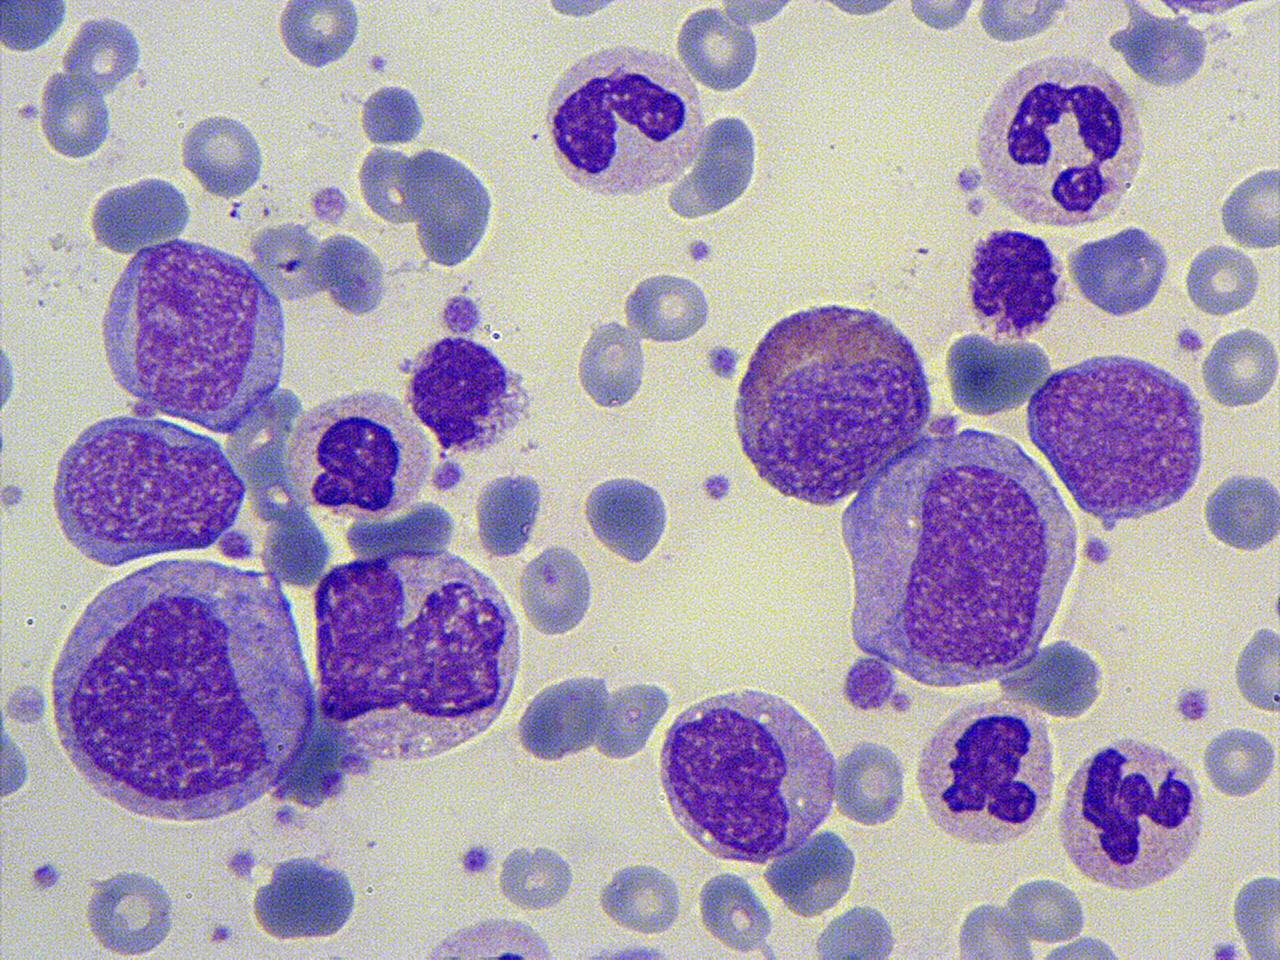Platelets: (840, 654, 899, 712), (436, 292, 485, 335), (1172, 680, 1214, 725), (0, 328, 20, 423), (456, 839, 497, 879), (703, 340, 741, 384), (27, 856, 65, 894), (1173, 324, 1205, 356), (954, 164, 984, 195), (684, 236, 714, 265), (1209, 938, 1239, 960), (366, 50, 390, 76)
RBC: (513, 667, 612, 767), (81, 862, 180, 958), (762, 826, 858, 916), (944, 326, 1032, 424), (178, 107, 270, 200), (515, 541, 598, 638), (674, 3, 761, 96), (248, 216, 336, 307), (694, 864, 778, 958), (58, 11, 145, 99), (592, 673, 672, 766), (622, 265, 716, 346), (830, 734, 910, 828), (597, 856, 684, 938), (1199, 322, 1279, 411), (38, 67, 112, 163), (1201, 468, 1279, 558), (471, 468, 542, 562), (316, 228, 390, 317), (1183, 239, 1263, 318), (356, 143, 428, 227), (495, 841, 577, 912), (1200, 724, 1276, 800), (358, 80, 430, 146), (1231, 620, 1279, 716), (1230, 868, 1280, 958), (902, 0, 982, 35), (806, 0, 912, 26), (536, 0, 630, 25)
WBC: (39, 552, 324, 830), (836, 414, 1090, 697), (306, 539, 526, 770), (724, 287, 935, 513), (94, 231, 290, 433), (650, 677, 840, 870), (1022, 344, 1210, 528), (968, 44, 1150, 232), (44, 406, 250, 572), (539, 36, 706, 205), (1050, 729, 1210, 896), (908, 696, 1062, 850), (284, 382, 434, 522), (402, 331, 536, 457), (946, 876, 1141, 960), (961, 224, 1071, 345), (663, 105, 764, 226), (404, 145, 502, 268), (248, 851, 364, 946), (1065, 220, 1175, 320), (515, 665, 615, 766), (84, 170, 198, 258), (81, 864, 182, 960), (1108, 3, 1215, 93), (762, 826, 864, 918), (580, 471, 674, 567), (181, 106, 272, 202), (398, 910, 572, 958), (518, 538, 598, 638), (573, 314, 652, 412), (942, 326, 1022, 422), (595, 857, 686, 938), (1200, 468, 1278, 558), (472, 466, 544, 562), (273, 0, 365, 70), (1215, 157, 1280, 250), (804, 904, 906, 958), (968, 0, 1082, 45), (2, 678, 35, 829), (358, 79, 429, 147), (1232, 620, 1280, 718), (1230, 866, 1280, 960), (0, 1, 72, 55)
